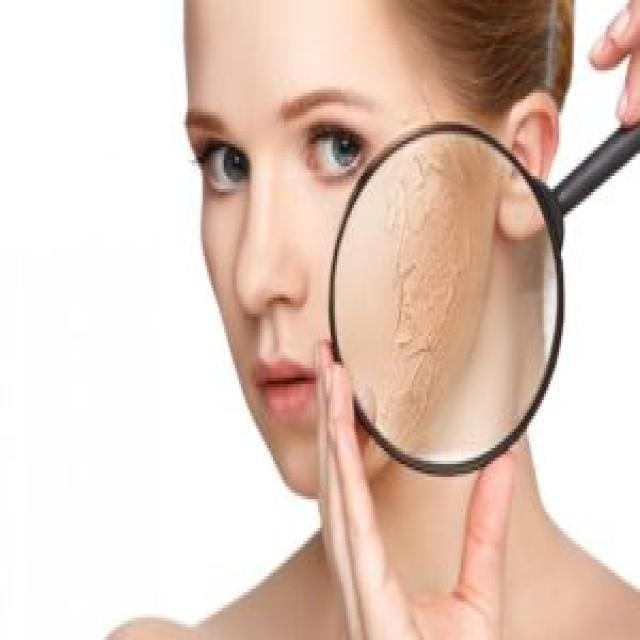dry: (380, 134, 504, 469)
